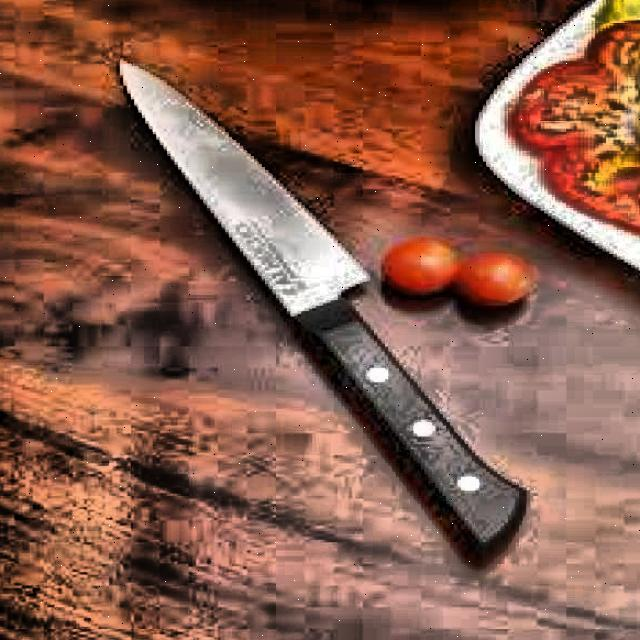knife: (113, 57, 532, 572)
